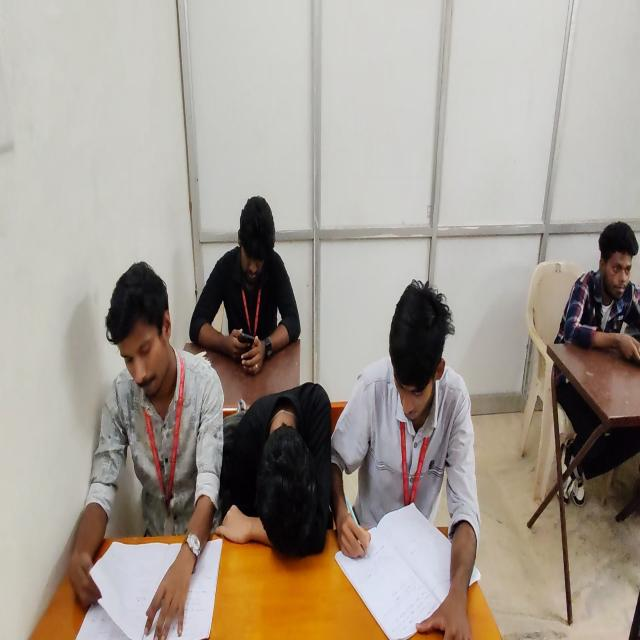reading: (68, 262, 226, 639)
sleeping: (213, 376, 332, 567)
using_mobile: (551, 221, 639, 508), (189, 194, 302, 372)
writing: (335, 277, 475, 640)
